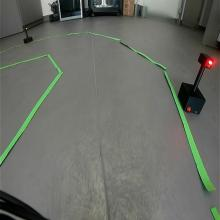red: (198, 52, 214, 70)
